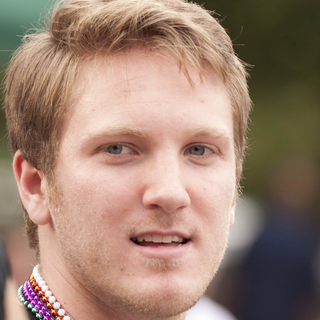eye: (93, 138, 145, 163), (177, 141, 224, 161)
